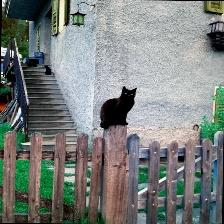kedo: (103, 86, 137, 127)
